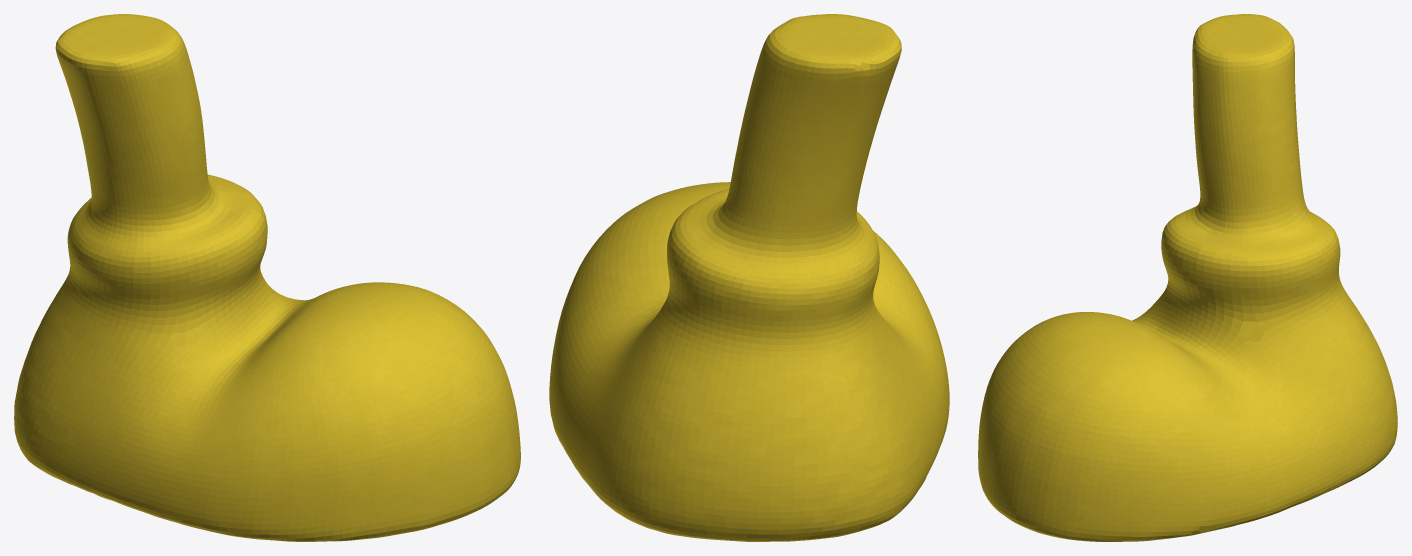
File: Yellow.glb
The picture shows the model from 3 angles, left to right: view 1: azimuth 30°, elevation 25°; view 2: azimuth 150°, elevation 25°; view 3: azimuth 270°, elevation 25°; orthographic projection. The views are drawn at different scales.
Parts seen in each view (by area): view 1: LEG_L; view 2: LEG_L; view 3: LEG_L.
Boxes of the visible parts, x1,y1,x2,y2 form: LEG_L: (14,14,520,541); LEG_L: (549,14,949,541); LEG_L: (978,14,1397,541).
Size of the model in its own units: 30.14 by 32.24 by 32.32.
Materials: 1 (1 with a texture image).
